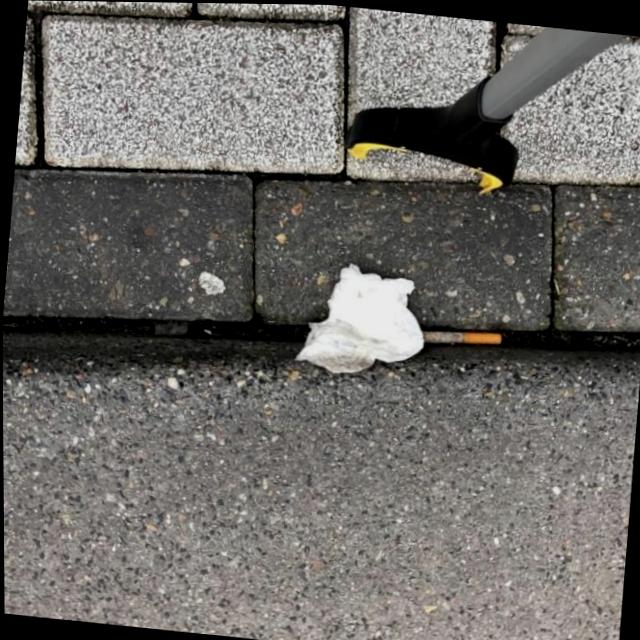Paper: (288, 256, 429, 379)
